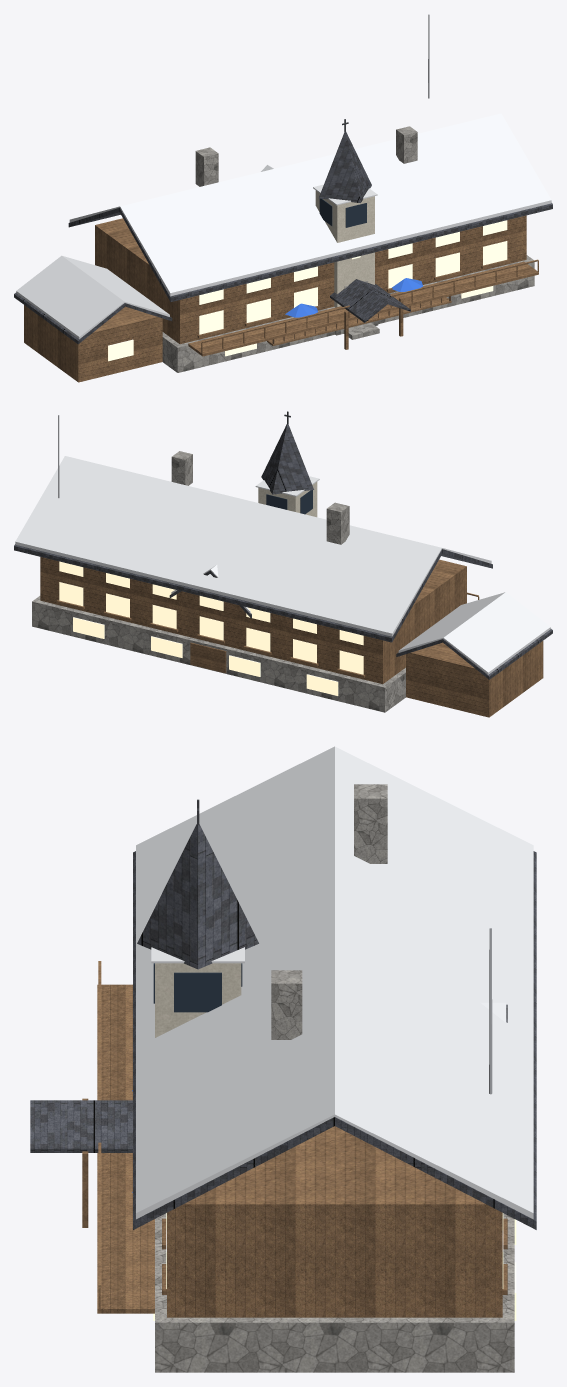
Rendered from props.glb.
3 views of the same model, one above another, from view 1: azimuth 30°, elevation 25°; view 2: azimuth 150°, elevation 25°; view 3: azimuth 270°, elevation 25° (orthographic). The views are drawn at different scales.
Parts seen in each view (by area): view 1: lodge__snow, lodge__wood, lodge__roof, lodge__glass, lodge__stone, chapel__plaster, chapel__roof, alp_hut__wood, chapel__glass_dark, alp_hut__panel_blue, chapel__stone; view 2: lodge__snow, lodge__wood, lodge__stone, lodge__glass, lodge__roof, chapel__roof, chapel__plaster, chapel__glass_dark; view 3: lodge__snow, lodge__wood, lodge__stone, lodge__roof, chapel__roof, chapel__plaster, chapel__glass_dark, chapel__snow.
Boxes of the visible parts, bbox=[...] form: lodge__snow: bbox=[16, 113, 551, 339]; lodge__wood: bbox=[24, 215, 538, 382]; lodge__roof: bbox=[14, 203, 552, 344]; lodge__glass: bbox=[108, 220, 507, 361]; lodge__stone: bbox=[162, 126, 534, 372]; chapel__plaster: bbox=[315, 190, 374, 307]; chapel__roof: bbox=[319, 131, 371, 202]; alp_hut__wood: bbox=[267, 297, 451, 345]; chapel__glass_dark: bbox=[319, 198, 366, 227]; alp_hut__panel_blue: bbox=[285, 278, 423, 317]; chapel__stone: bbox=[335, 280, 379, 339]; lodge__snow: bbox=[15, 456, 550, 674]; lodge__wood: bbox=[40, 557, 543, 717]; lodge__stone: bbox=[32, 451, 405, 712]; lodge__glass: bbox=[59, 561, 363, 695]; lodge__roof: bbox=[14, 544, 552, 679]; chapel__roof: bbox=[169, 424, 313, 618]; chapel__plaster: bbox=[258, 482, 317, 517]; chapel__glass_dark: bbox=[266, 490, 312, 514]; lodge__snow: bbox=[136, 746, 533, 1219]; lodge__wood: bbox=[82, 961, 507, 1317]; lodge__stone: bbox=[155, 784, 514, 1372]; lodge__roof: bbox=[30, 851, 536, 1229]; chapel__roof: bbox=[137, 824, 507, 1022]; chapel__plaster: bbox=[155, 963, 241, 1037]; chapel__glass_dark: bbox=[153, 963, 242, 1012]; chapel__snow: bbox=[151, 947, 506, 1022].
Bounding box in the file's own units: 43.68 × 21.58 × 21.12.
32 materials, 9 textured.
